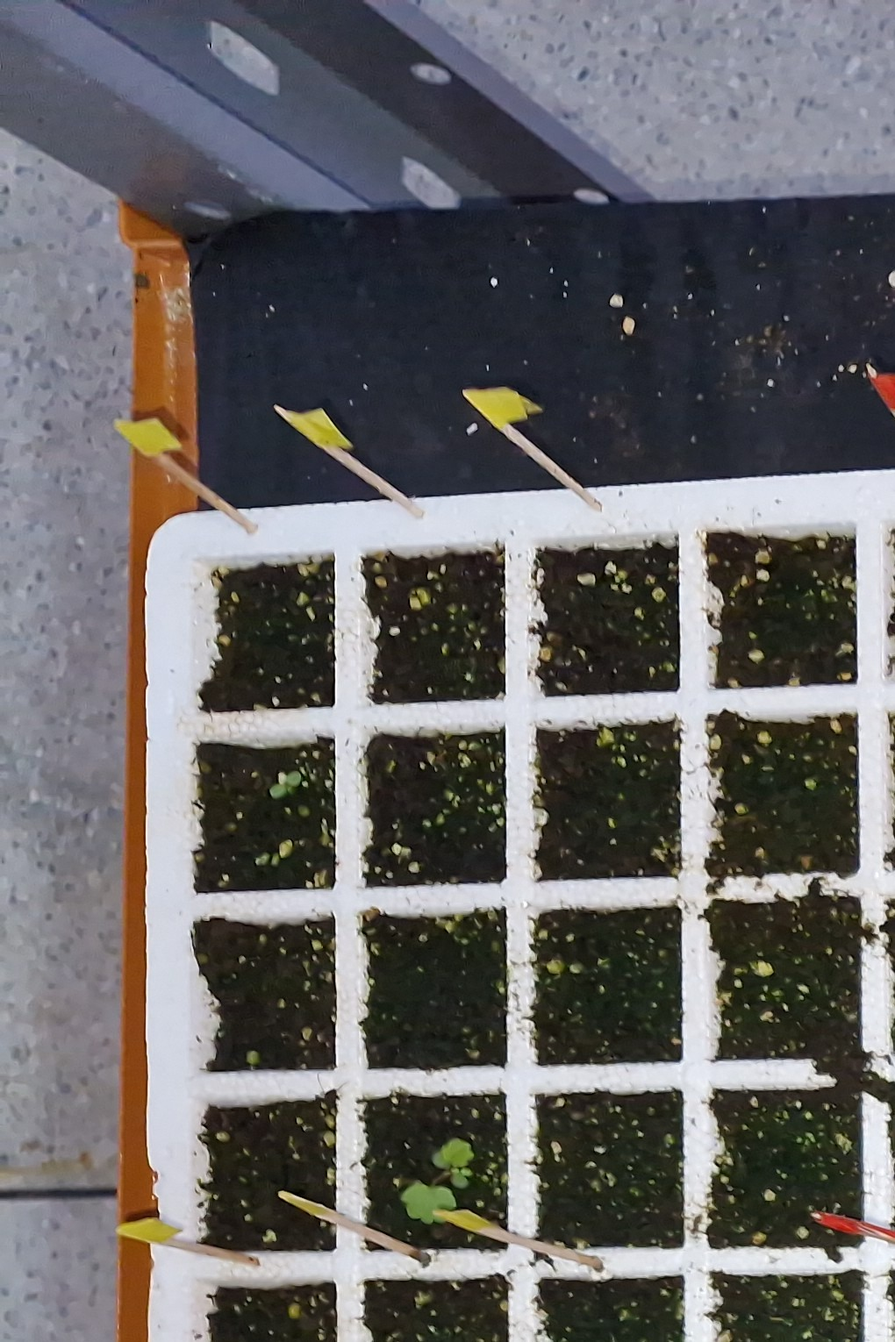Folha: (402, 1182, 455, 1224), (441, 1138, 474, 1167), (433, 1152, 450, 1169), (286, 771, 301, 787), (270, 784, 287, 798), (451, 1174, 468, 1187)
Germinacao: (401, 1138, 474, 1223), (270, 771, 301, 799)
